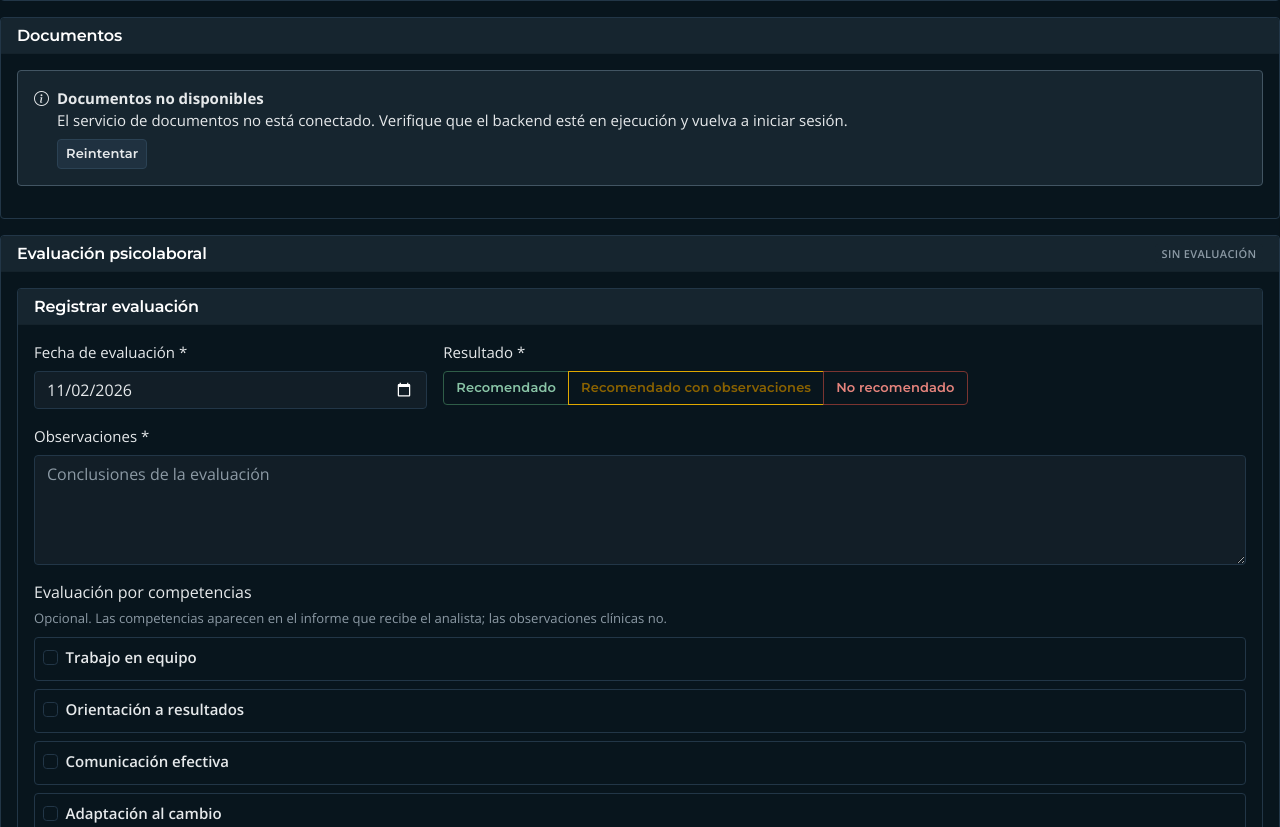
Test: DetalleSolicitud › muestra la solicitud como Finalizada tras registrar la evaluación
(page scrolled)
Click the radio button labelled "Recomendado" at (450, 378), box [443,371,456,384]
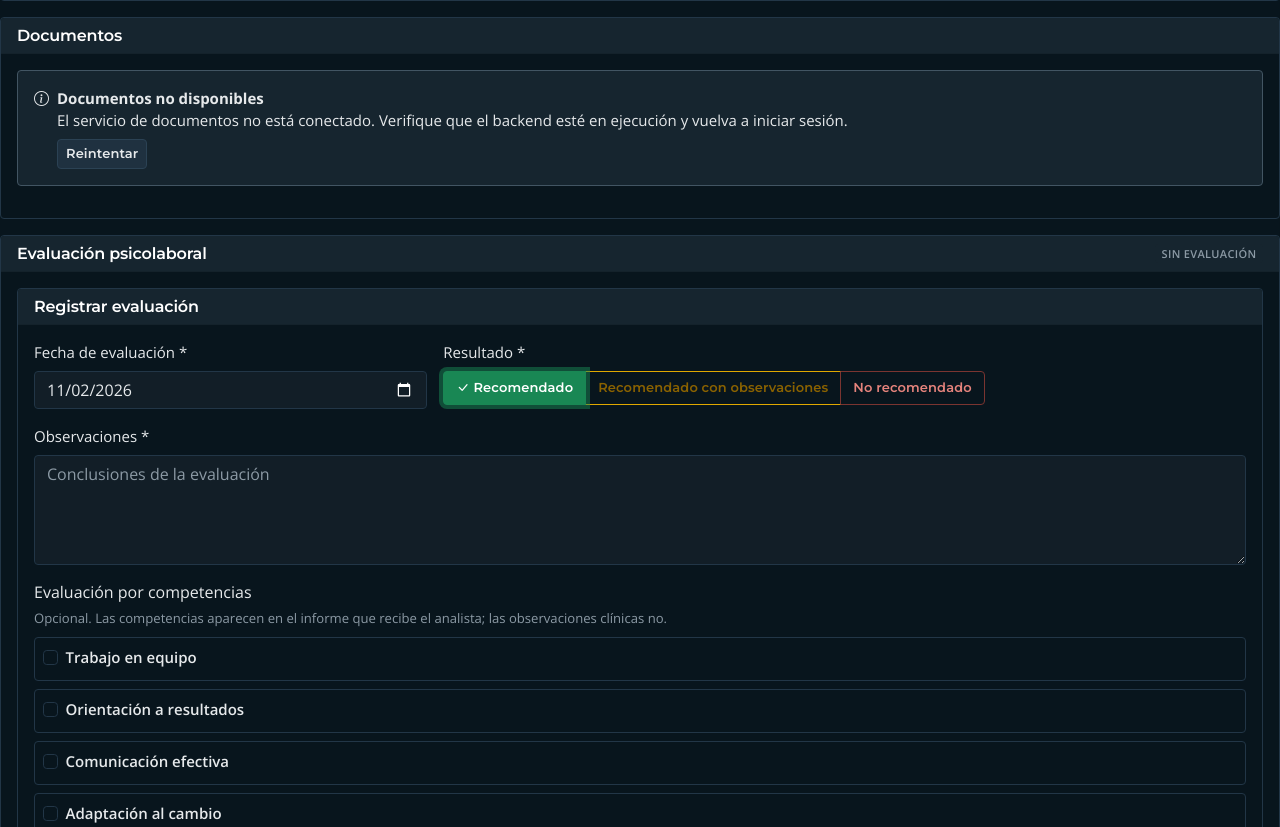
Type "Perfil adecuado para el cargo evaluado." into the text box labelled "Observaciones *" at (640, 510), box [34,455,1246,565]
(page scrolled)
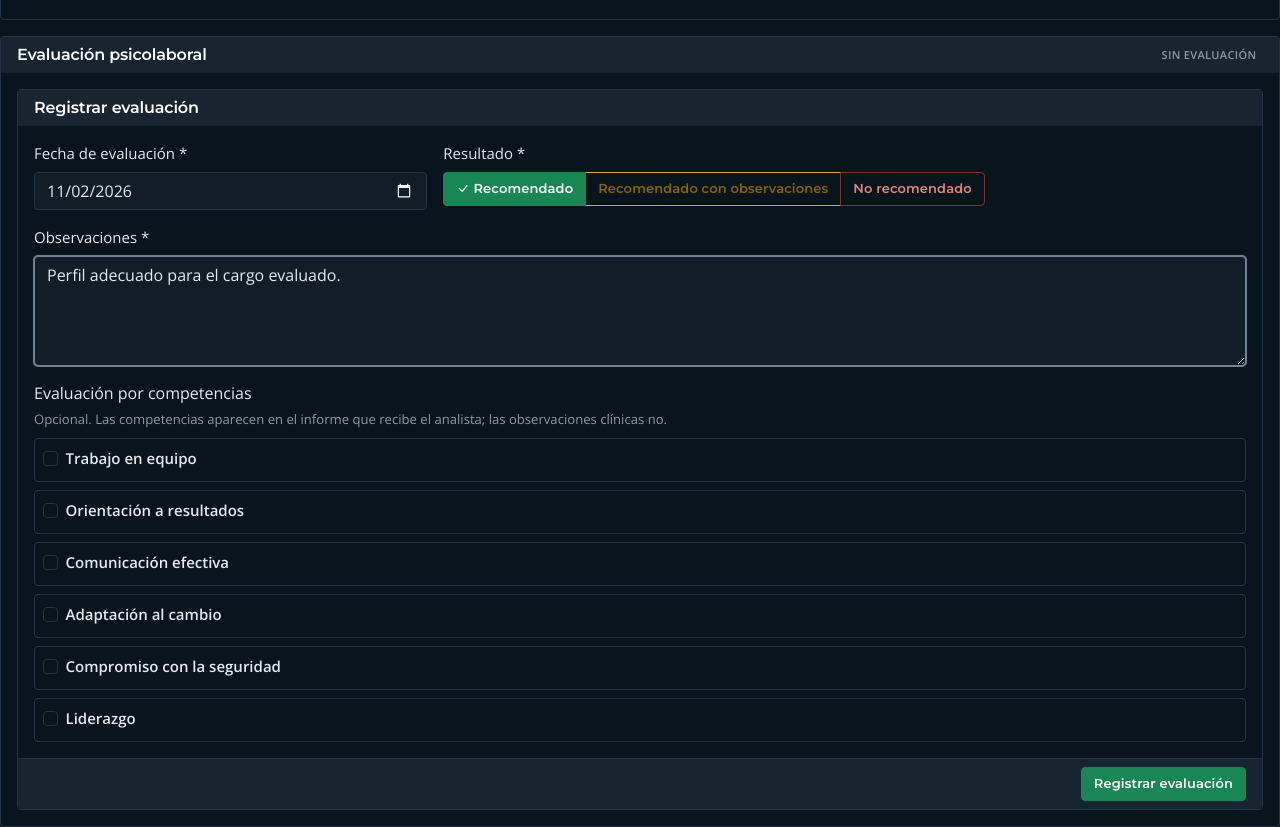
Click the button "Registrar evaluación" at (1163, 784), box [1081,767,1246,800]
(page scrolled)
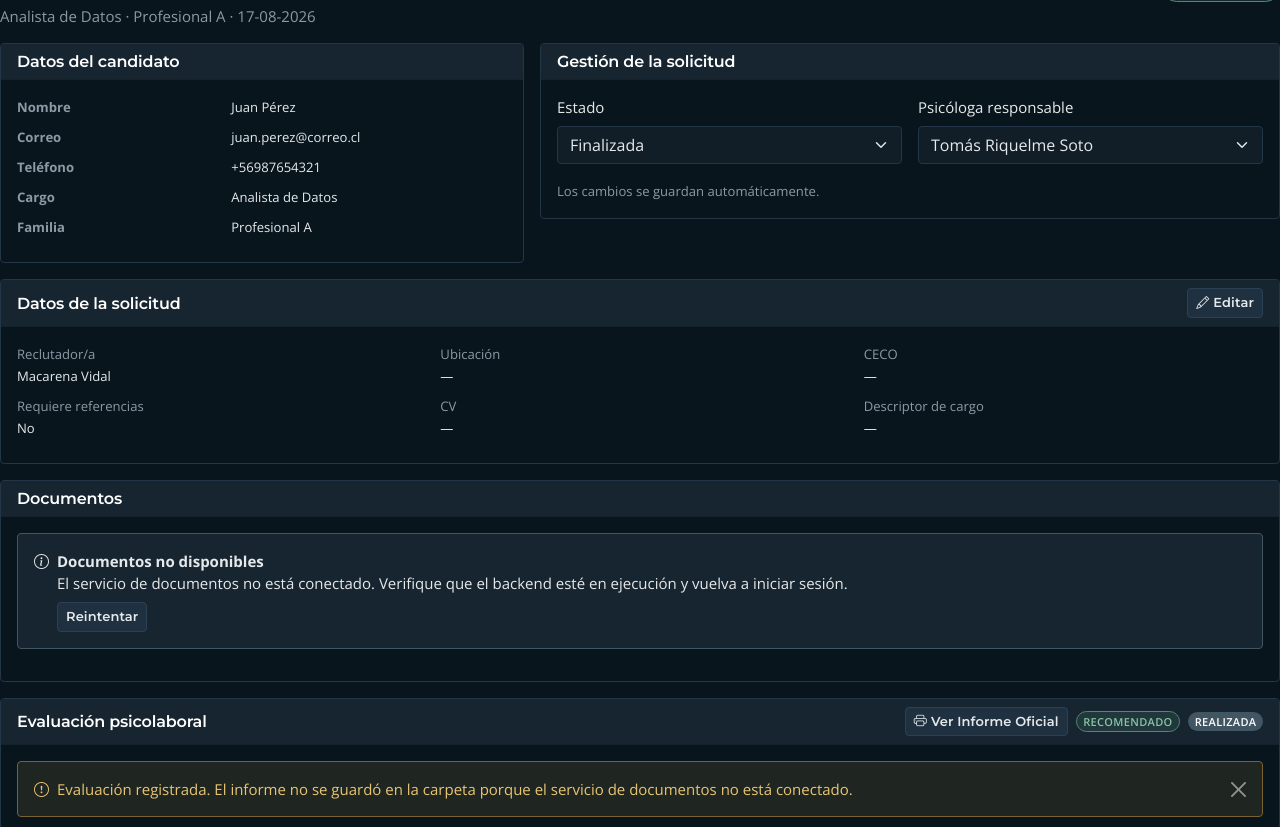
Result: the dropdown labelled "Estado" shows "Finalizada" at [557,126,902,164]
